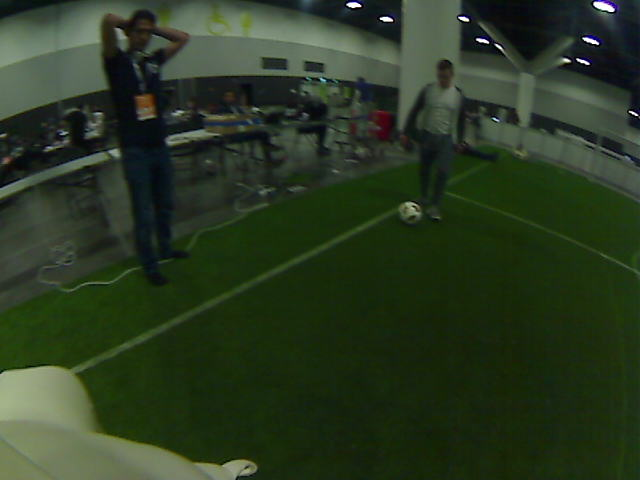ball: (389, 192, 429, 232)
goalpost: (588, 140, 599, 182)
